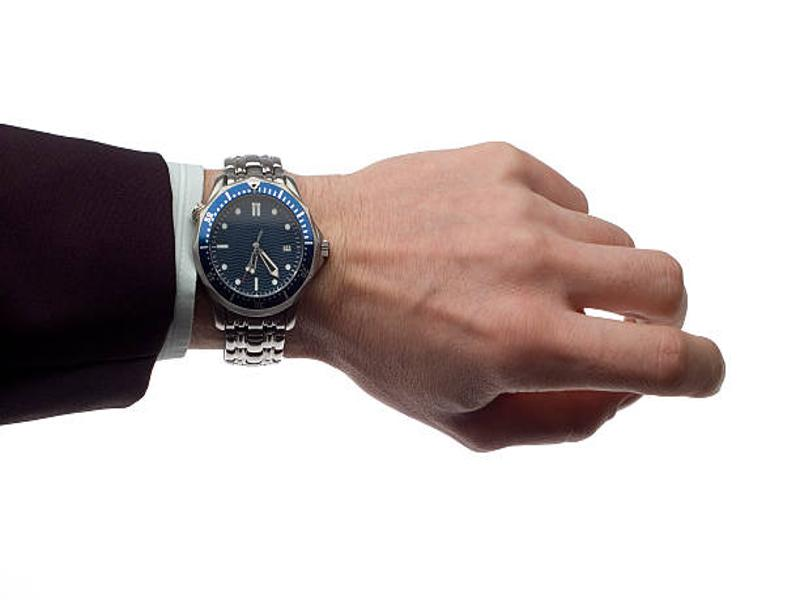watch: (188, 153, 331, 370)
